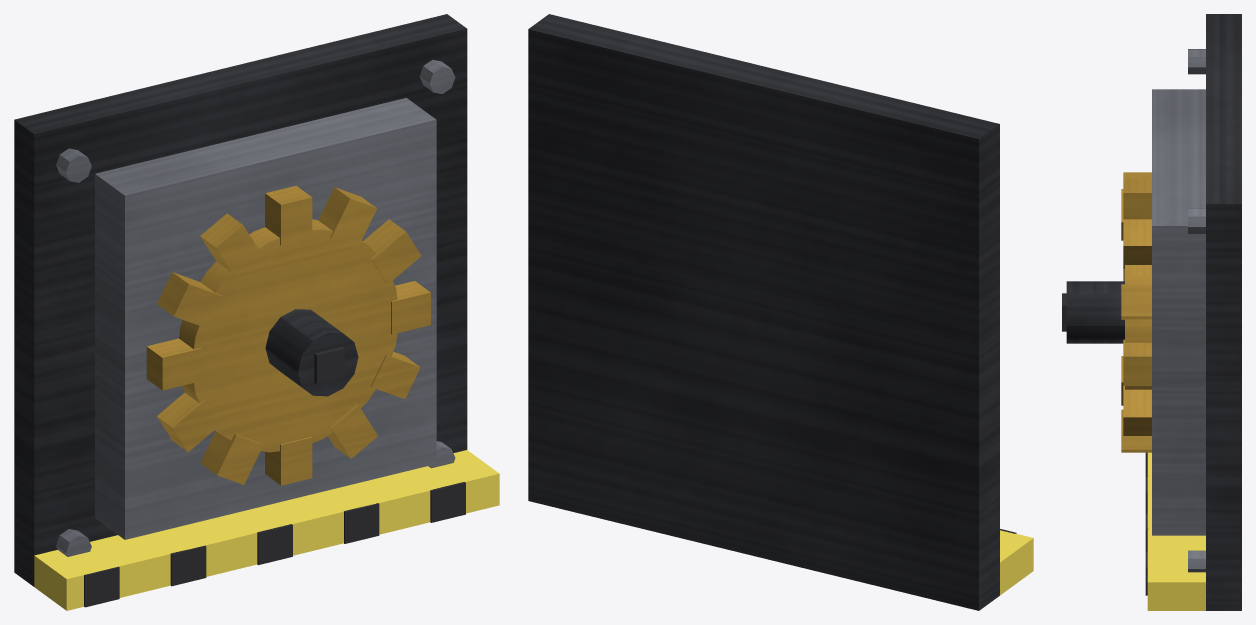
File: GateMechanism.fbx
The picture shows the model from 3 angles, left to right: view 1: azimuth 30°, elevation 25°; view 2: azimuth 150°, elevation 25°; view 3: azimuth 270°, elevation 25°; orthographic projection. The views are drawn at different scales.
Visible parts, largest first — view 1: GateMechanism; view 2: GateMechanism; view 3: GateMechanism.
Part boxes in pixels (x1,y1,x2,y2): GateMechanism: (14,14,499,610); GateMechanism: (528,14,1033,610); GateMechanism: (1062,14,1241,610).
Bounding box in the file's own units: 0.5 × 0.5 × 0.2.
Materials: 5 (3 with a texture image).
